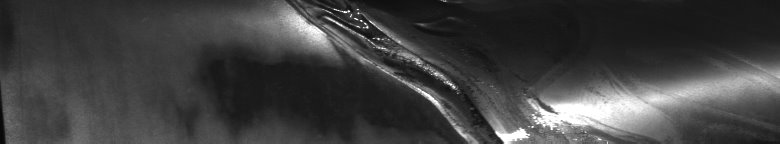ke: (289, 4, 611, 136)
